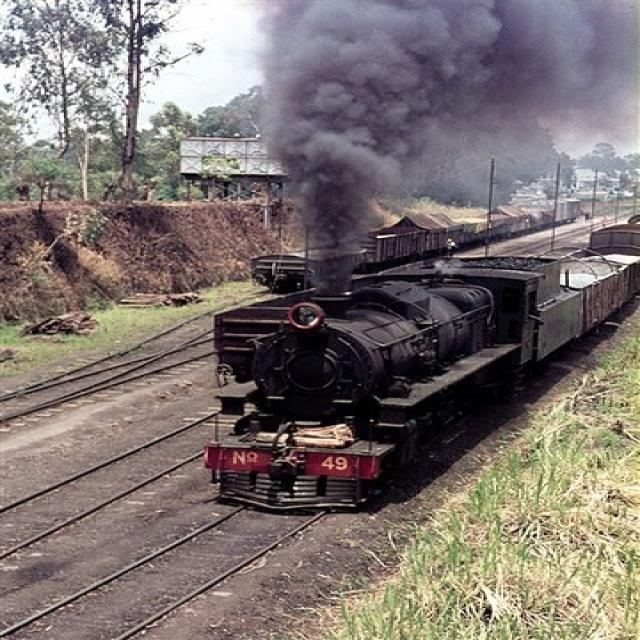train: (204, 212, 638, 510), (249, 194, 590, 292)
